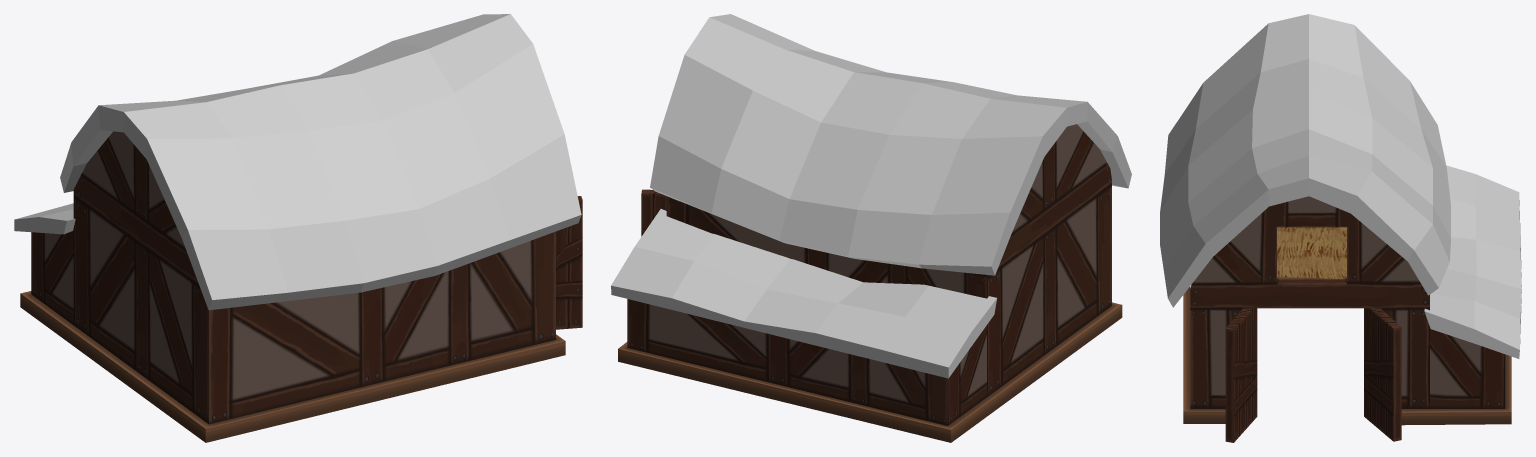
File: Storage.fbx
The picture shows the model from 3 angles, left to right: view 1: azimuth 30°, elevation 25°; view 2: azimuth 150°, elevation 25°; view 3: azimuth 270°, elevation 25°; orthographic projection. The views are drawn at different scales.
Visible parts, largest first — view 1: Cube.002, Cube.003; view 2: Cube.002, Cube.003; view 3: Cube.002, Cube.003.
Part boxes in pixels (x1,y1,x2,y2): Cube.002: (14,14,581,310); Cube.003: (20,131,582,442); Cube.002: (611,14,1131,378); Cube.003: (618,124,1122,442); Cube.002: (1160,14,1521,358); Cube.003: (1183,196,1511,442).
Size of the model in its own units: 641 by 421 by 546.
